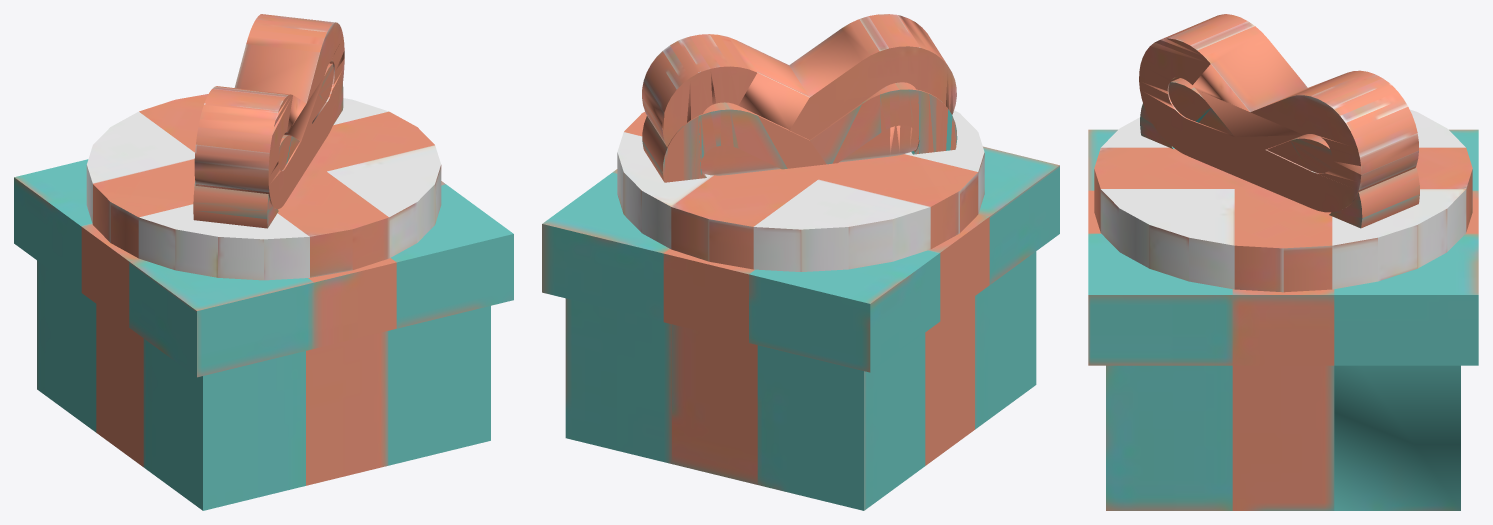
File: presents2_optimized.glb
The picture shows the model from 3 angles, left to right: view 1: azimuth 30°, elevation 25°; view 2: azimuth 150°, elevation 25°; view 3: azimuth 270°, elevation 25°; orthographic projection. The views are drawn at different scales.
Parts seen in each view (by area): view 1: presentGreen, presentRoundRebuild; view 2: presentGreen, presentRoundRebuild; view 3: presentGreen, presentRoundRebuild.
Part boxes in pixels (left/top/right/bottom): presentGreen: left=14, top=63, right=513, bottom=510; presentRoundRebuild: left=86, top=14, right=441, bottom=280; presentGreen: left=542, top=82, right=1059, bottom=510; presentRoundRebuild: left=617, top=14, right=984, bottom=271; presentGreen: left=1088, top=78, right=1478, bottom=510; presentRoundRebuild: left=1094, top=14, right=1472, bottom=292.
Size of the model in its own units: 0.3727 by 0.3997 by 0.3727.
Materials: 2 (2 with a texture image).
